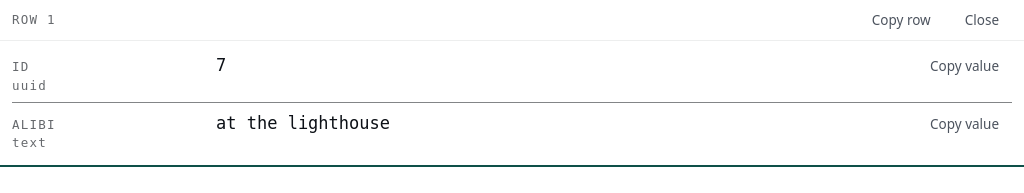
Test: taking a value out of the page › copies one column's value, named so the button says which
The image size is (1024, 193).
Click the button "Copy value" in the row of "at the lighthouse" at (964, 124), box top-left (917, 110), bottom-right (1012, 138)
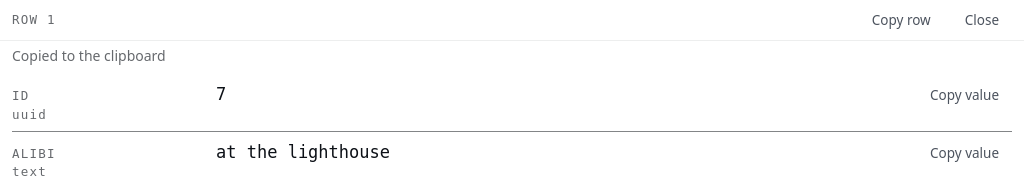
Check: the message reads "Copied to the clipboard", box top-left (12, 46), bottom-right (166, 65)
